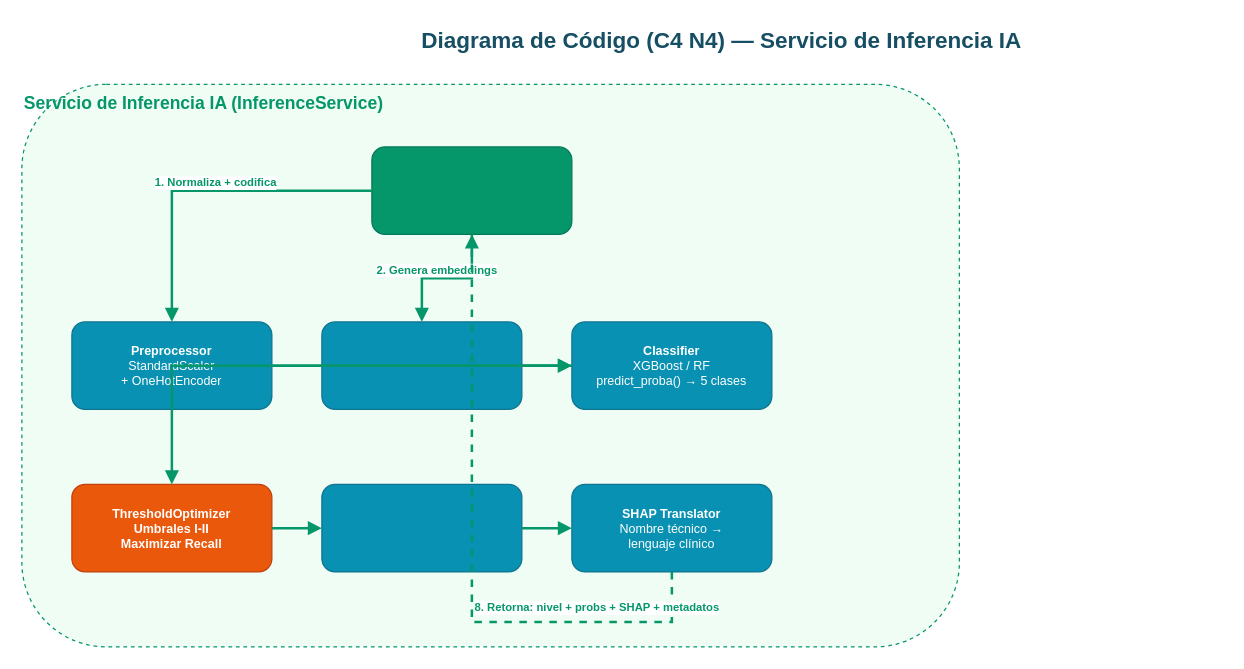
This 1244x669 diagram has some shape labels left out. The box of each missing label's shape, as (x1, y1, x2, y2) in pixels:
NLP Processor BERT tokenizer → embeddings 768d: (321, 321, 522, 409)
Predictor Orquesta el pipeline end-to-end: (371, 146, 572, 234)
SHAP Explainer TreeExplainer shap_values(): (321, 483, 522, 572)
